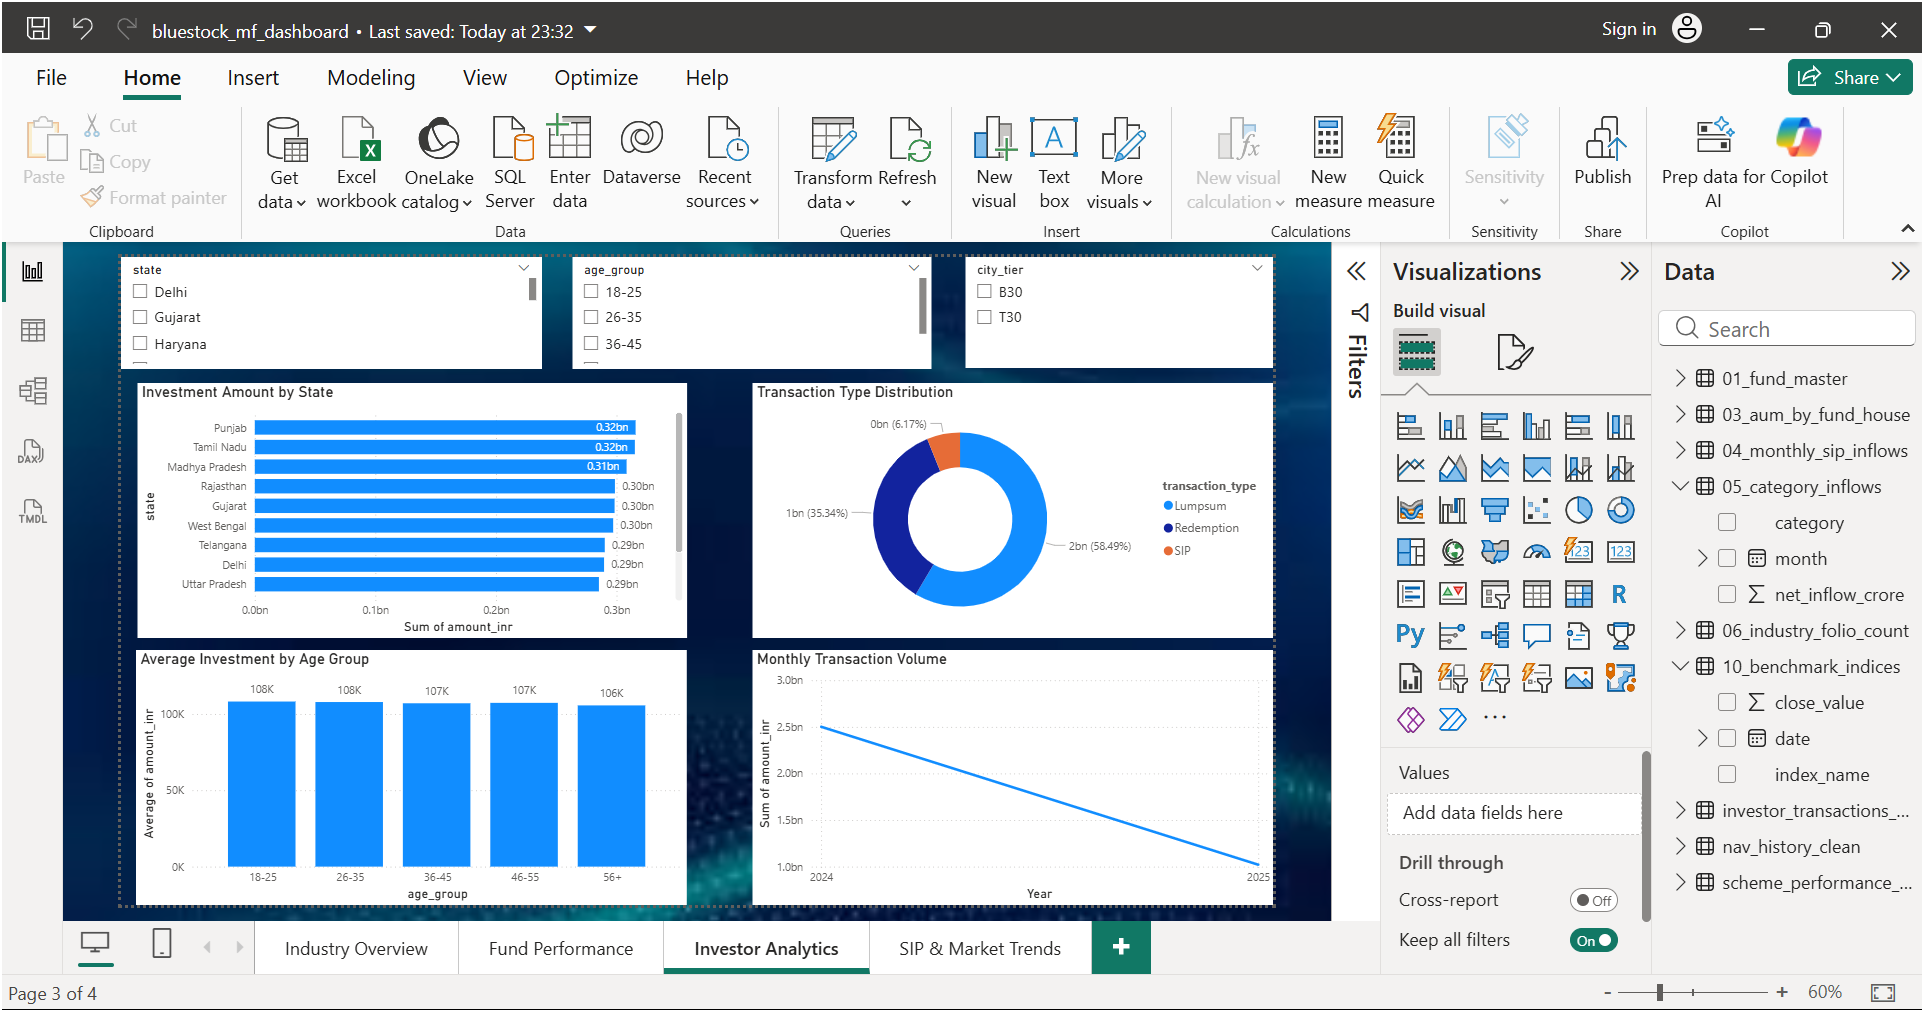

The dashboard page shown, as its layout file describes it:
{"tool":"powerbi","page":{"name":"Investor Analytics","canvas":[1280,720],"ordinal":2},"visuals":[{"type":"clusteredBarChart","title":"Investment Amount by State","fields":{"Category":["investor_transactions_clean.state"],"Y":["Sum(investor_transactions_clean.amount_inr)"]},"box":[17.8,139.3,610.4,283.4],"z":0},{"type":"donutChart","title":"Transaction Type Distribution","fields":{"Category":["investor_transactions_clean.transaction_type"],"Y":["Sum(investor_transactions_clean.amount_inr)"]},"box":[701.1,139.3,579.7,283.4],"z":1000},{"type":"clusteredColumnChart","title":"Average Investment by Age Group","fields":{"Category":["investor_transactions_clean.age_group"],"Y":["Avg(investor_transactions_clean.amount_inr)"]},"box":[16.2,437.2,612.1,283.4],"z":2000},{"type":"lineChart","title":"Monthly Transaction Volume","fields":{"Category":["investor_transactions_clean.transaction_date.Variation.Date Hierarchy.Year","investor_transactions_clean.transaction_date.Variation.Date Hierarchy.Quarter","investor_transactions_clean.transaction_date.Variation.Date Hierarchy.Month","investor_transactions_clean.transaction_date.Variation.Date Hierarchy.Day"],"Y":["Sum(investor_transactions_clean.amount_inr)"]},"box":[701.1,437.2,579.7,283.4],"z":3000},{"type":"slicer","fields":{"Values":["investor_transactions_clean.state"]},"box":[0,0,466.3,123.1],"z":4000},{"type":"slicer","fields":{"Values":["investor_transactions_clean.age_group"]},"box":[502,0,398.3,123.1],"z":5000},{"type":"slicer","fields":{"Values":["investor_transactions_clean.city_tier"]},"box":[937.5,0,343.3,123.1],"z":6000}]}

Visuals, with their boxes on the page's 1280x720 design canvas (x1, y1, x2, y2). These are canvas units, not pixel positions in the 1924x1012 screenshot, which may show the page scaled, cropped or inside an application window:
"Investment Amount by State" clusteredBarChart: 18:139:628:423
"Transaction Type Distribution" donutChart: 701:139:1281:423
"Average Investment by Age Group" clusteredColumnChart: 16:437:628:721
"Monthly Transaction Volume" lineChart: 701:437:1281:721
slicer - investor_transactions_clean.state: 0:0:466:123
slicer - investor_transactions_clean.age_group: 502:0:900:123
slicer - investor_transactions_clean.city_tier: 938:0:1281:123
